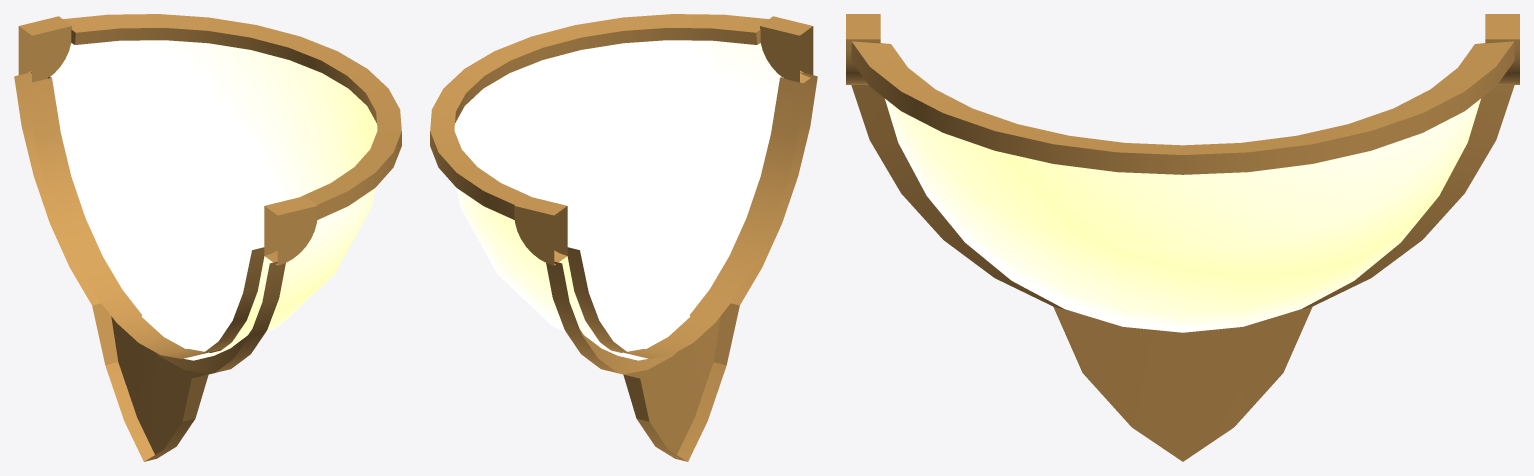
Rendered from S_WallLamp.fbx.
3 renders of one model, left to right at view 1: azimuth 30°, elevation 25°; view 2: azimuth 150°, elevation 25°; view 3: azimuth 270°, elevation 25°, orthographic. The views are drawn at different scales.
Parts seen in each view (by area): view 1: S_WallLamp; view 2: S_WallLamp; view 3: S_WallLamp.
Boxes of the visible parts, box(x1,y1,x2,y2) form: S_WallLamp: box(14, 14, 401, 461); S_WallLamp: box(430, 14, 817, 461); S_WallLamp: box(846, 14, 1519, 461).
Size of the model in its own units: 24.08 by 34.22 by 47.22.
